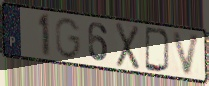1: (38, 11, 54, 60)
6: (87, 22, 110, 64)
D: (144, 25, 172, 75)
G: (54, 16, 82, 61)
V: (171, 30, 202, 78)
X: (115, 21, 141, 72)
